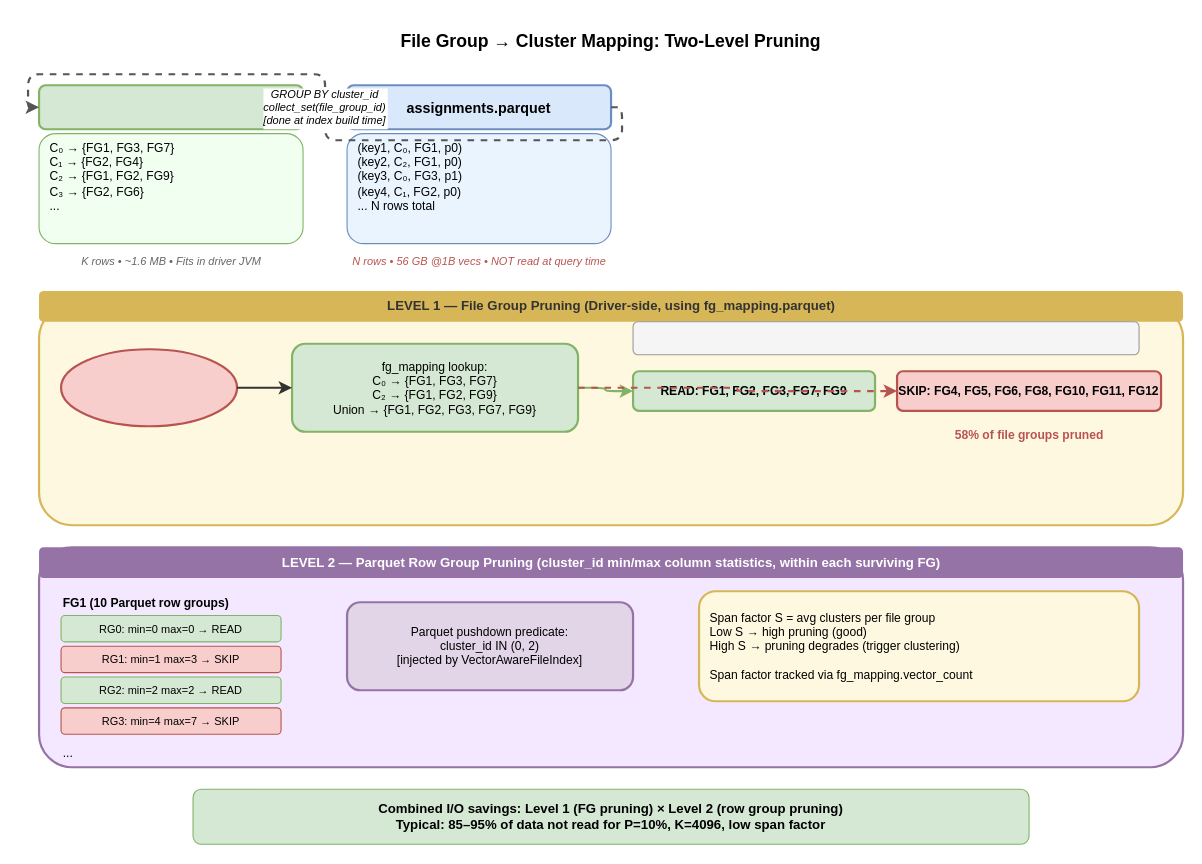
Some shapes in this 1202 by 864 pixel diagram are drawn without their labels. The centre of each missing label's shape, as x and y in pixels:
"All File Groups: {FG1..FG12}" belongs at point (885, 338).
"fg_mapping.parquet" belongs at point (170, 107).
"Query vector q probe {C₀, C₂}" belongs at point (148, 387).
